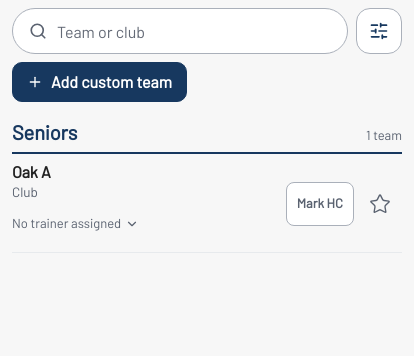
Test: TeamsTab trainers › says so when the change cannot be saved
Click the button with aria-label "Change trainer for Oak A".
click(76, 224)  # box [12, 202, 139, 246]
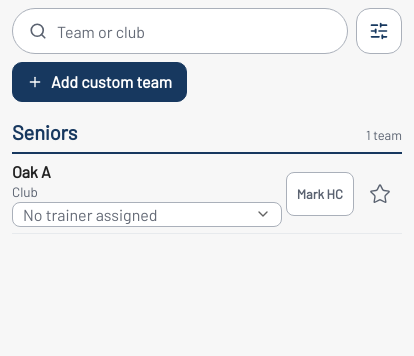
Click the dropdown named "Trainer for Oak A".
click(147, 214)  # box [12, 202, 282, 227]
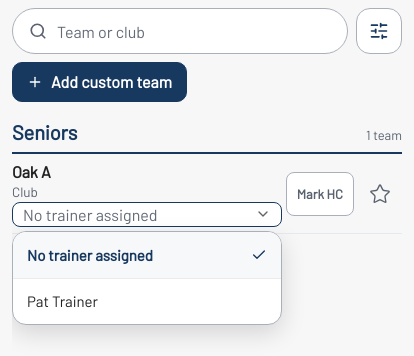
Click the dropdown named "Trainer for Oak A".
click(147, 214)  # box [12, 202, 282, 227]
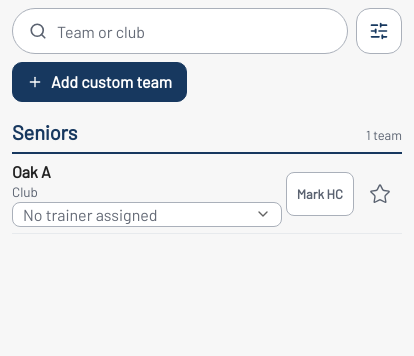
Click the dropdown named "Trainer for Oak A".
click(147, 214)  # box [12, 202, 282, 227]
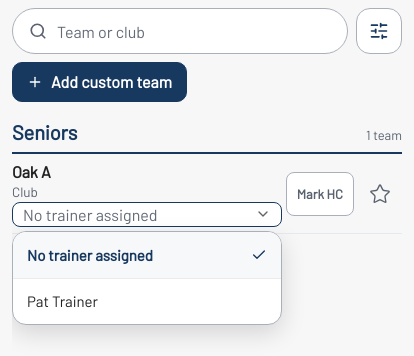
Click the option "Pat Trainer".
click(62, 301)  # box [13, 278, 281, 324]
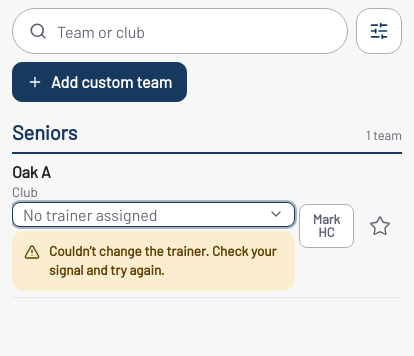
Result: the message reads "Couldn’t change the trainer. Check your signal and try again." at [49, 242, 276, 278]
